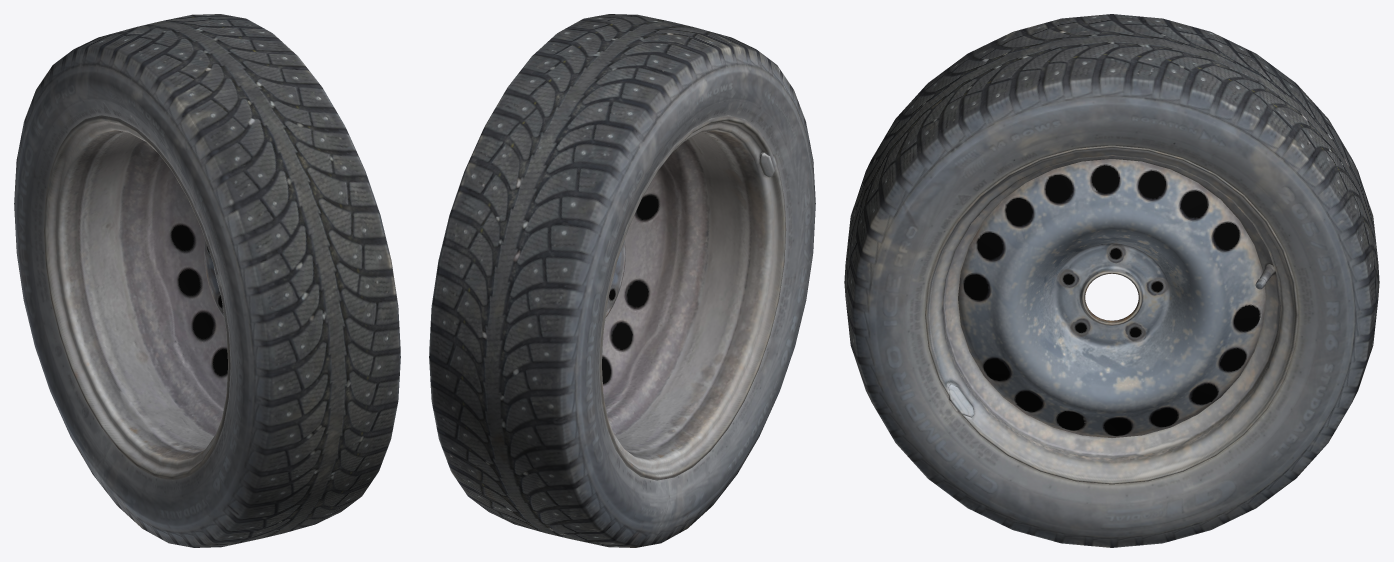
File: wheel.glb
3 views of the same model, side by side, from view 1: azimuth 30°, elevation 25°; view 2: azimuth 150°, elevation 25°; view 3: azimuth 270°, elevation 25° (orthographic).
Parts seen in each view (by area): view 1: Wheel; view 2: Wheel; view 3: Wheel.
Boxes of the visible parts, box(x1,y1,x2,y2) form: Wheel: box(14, 14, 400, 547); Wheel: box(429, 14, 815, 547); Wheel: box(844, 14, 1379, 547).
Size of the model in its own units: 0.1448 by 0.4344 by 0.4344.
Materials: 1 (1 with a texture image).
